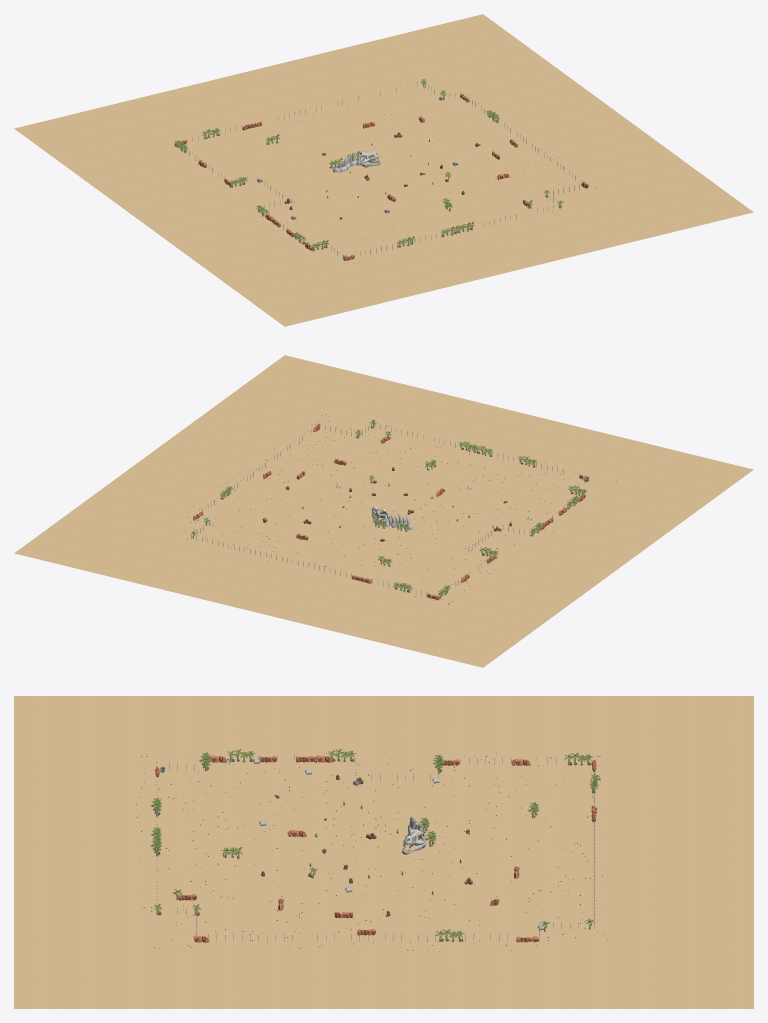
Rendered from BG_Desert_Max.fbx.
3 renders of one model, top to bottom at view 1: azimuth 30°, elevation 25°; view 2: azimuth 150°, elevation 25°; view 3: azimuth 270°, elevation 25°, orthographic. The views are drawn at different scales.
Visible parts, largest first — view 1: Ground, Rock1.002, Rock1.001; view 2: Ground, Rock1.002, Rock1.001; view 3: Ground, Rock1.002, Rock1.001, Grass.
Boxes of the visible parts, x1,y1,x2,y2 form: Ground: [14, 14, 753, 326]; Rock1.002: [174, 79, 588, 260]; Rock1.001: [186, 82, 585, 259]; Ground: [14, 355, 753, 667]; Rock1.002: [191, 419, 589, 600]; Rock1.001: [191, 423, 587, 596]; Ground: [14, 696, 753, 1008]; Rock1.002: [150, 748, 600, 942]; Rock1.001: [156, 754, 594, 941]; Grass: [136, 753, 607, 951].
Bounding box in the file's own units: 24723 × 811 × 24723.
Materials: 2 (2 with a texture image).
